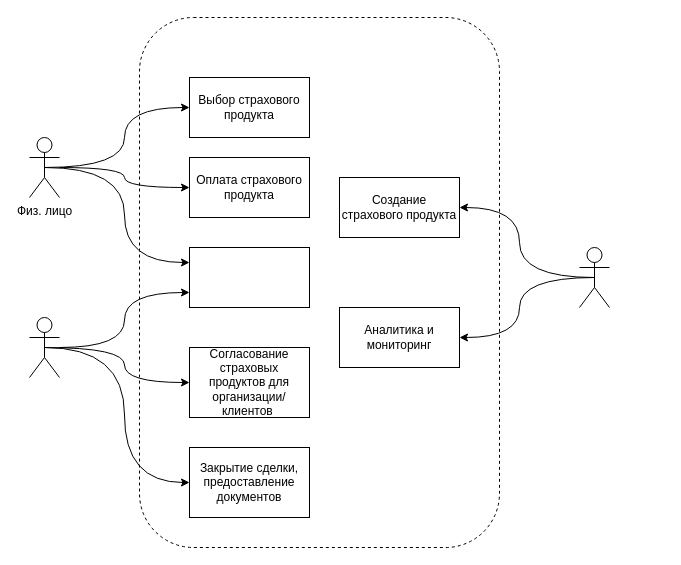
The diagram is 681 pixels wide and 565 high, and some of its shapes have lost their labels. Each missing label, with the centre of its shape:
"Агент" goes at (x=44, y=347).
"Администратор системы" goes at (x=594, y=277).
"Оформление страхового продукта" goes at (x=249, y=277).
